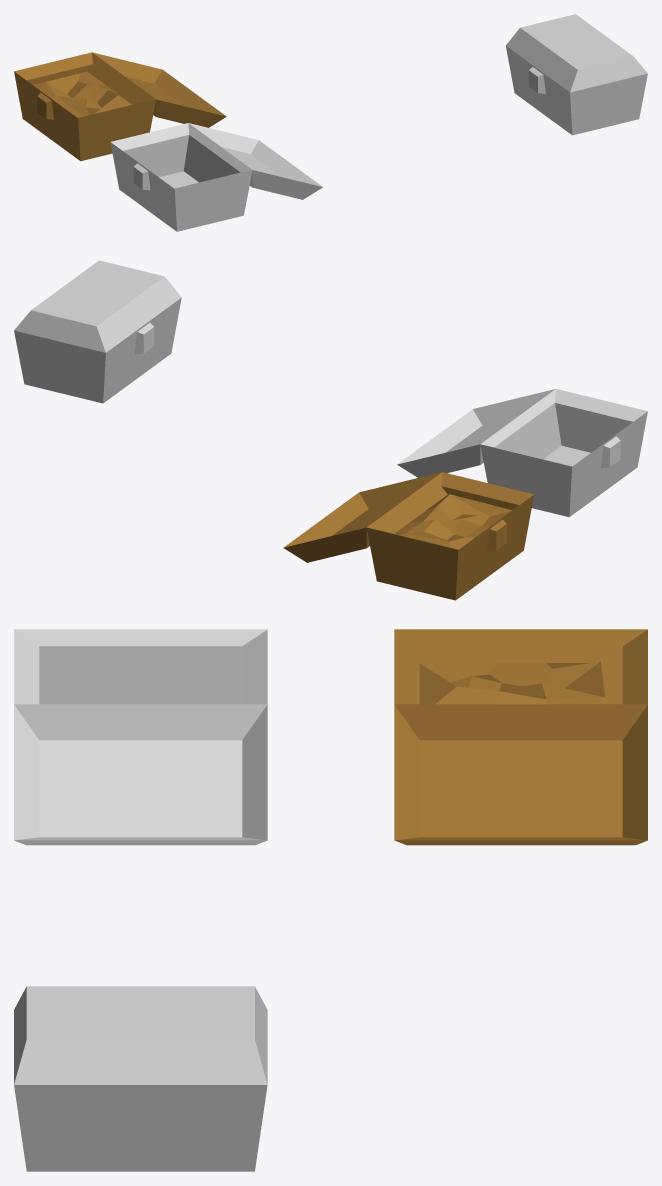
Rendered from Chests.fbx.
3 views of the same model, one above another, from view 1: azimuth 30°, elevation 25°; view 2: azimuth 150°, elevation 25°; view 3: azimuth 270°, elevation 25° (orthographic). The views are drawn at different scales.
Parts seen in each view (by area): view 1: Empty Chest, Open Chest, Closed Chest; view 2: Open Chest, Empty Chest, Closed Chest; view 3: Empty Chest, Open Chest, Closed Chest.
Boxes of the visible parts, x1,y1,x2,y2 form: Empty Chest: (110,123,322,231); Open Chest: (14,52,226,161); Closed Chest: (505,14,647,135); Open Chest: (283,472,534,600); Empty Chest: (397,389,647,517); Closed Chest: (14,260,181,403); Empty Chest: (14,629,267,845); Open Chest: (394,629,647,845); Closed Chest: (14,986,267,1171).
Bounding box in the file's own units: 858 × 110 × 500.
